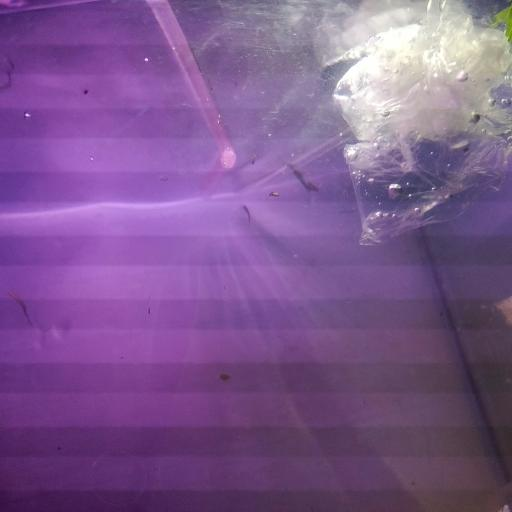plastic_bag: (331, 0, 512, 249)
plastic_straw: (147, 0, 236, 189)
